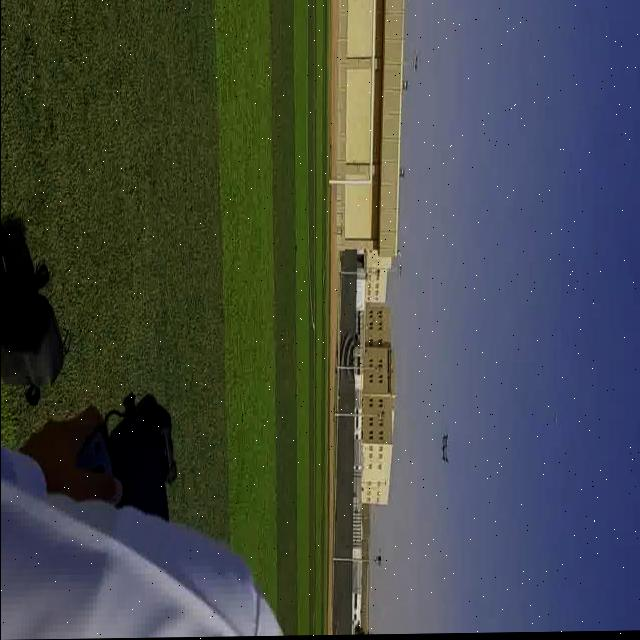drone: (434, 426, 456, 477)
